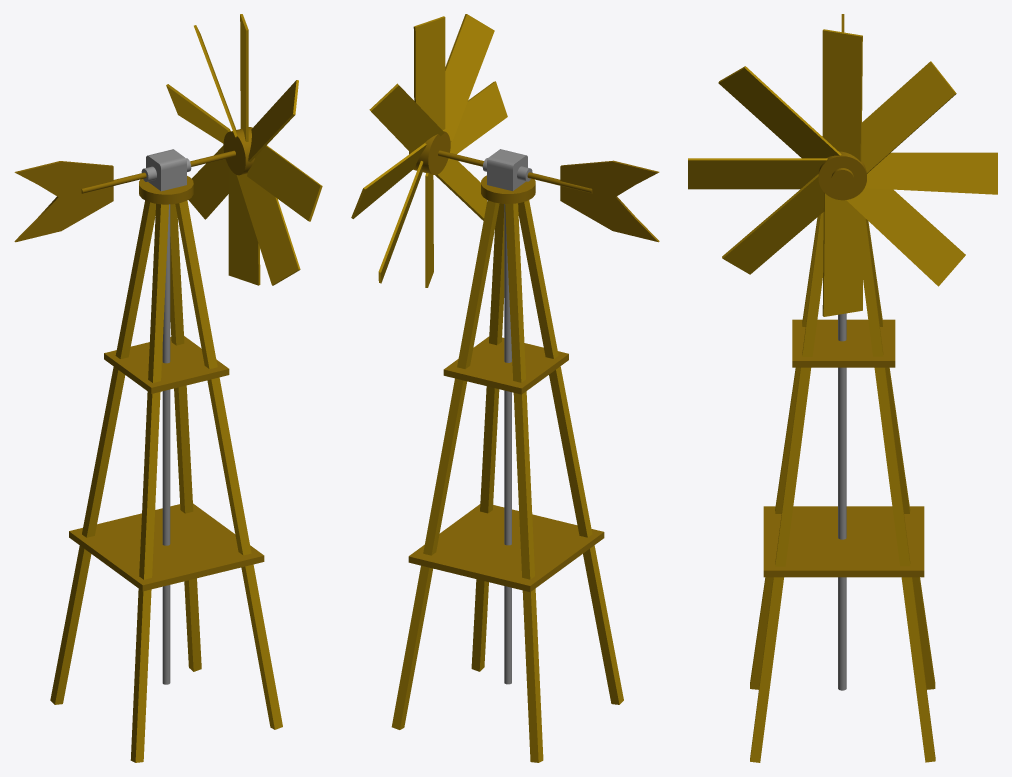
File: windmill_1.fbx
3 renders of one model, left to right at view 1: azimuth 30°, elevation 25°; view 2: azimuth 150°, elevation 25°; view 3: azimuth 270°, elevation 25°, orthographic. The views are drawn at different scales.
Parts seen in each view (by area): view 1: pCube140; view 2: pCube140; view 3: pCube140.
Part boxes in pixels (x1,y1,x2,y2): pCube140: (14, 14, 322, 762); pCube140: (351, 14, 659, 762); pCube140: (688, 14, 997, 762).
Size of the model in its own units: 60.56 by 161 by 61.62.
